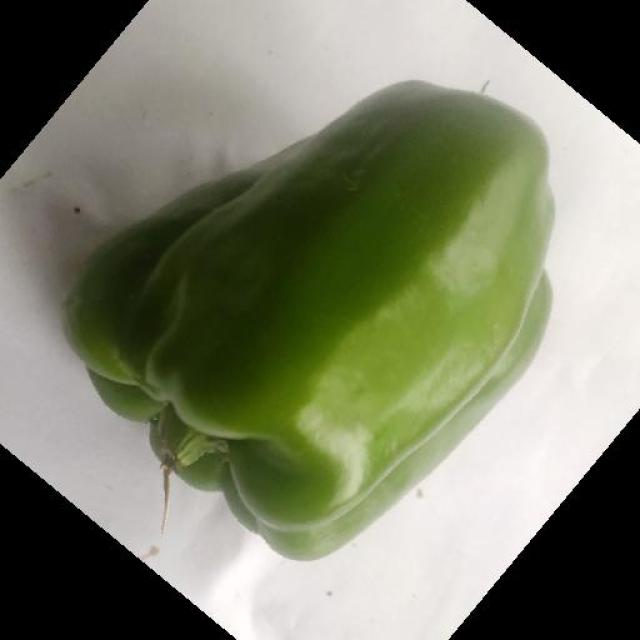Fresh_Capsicum: (71, 77, 506, 530)
